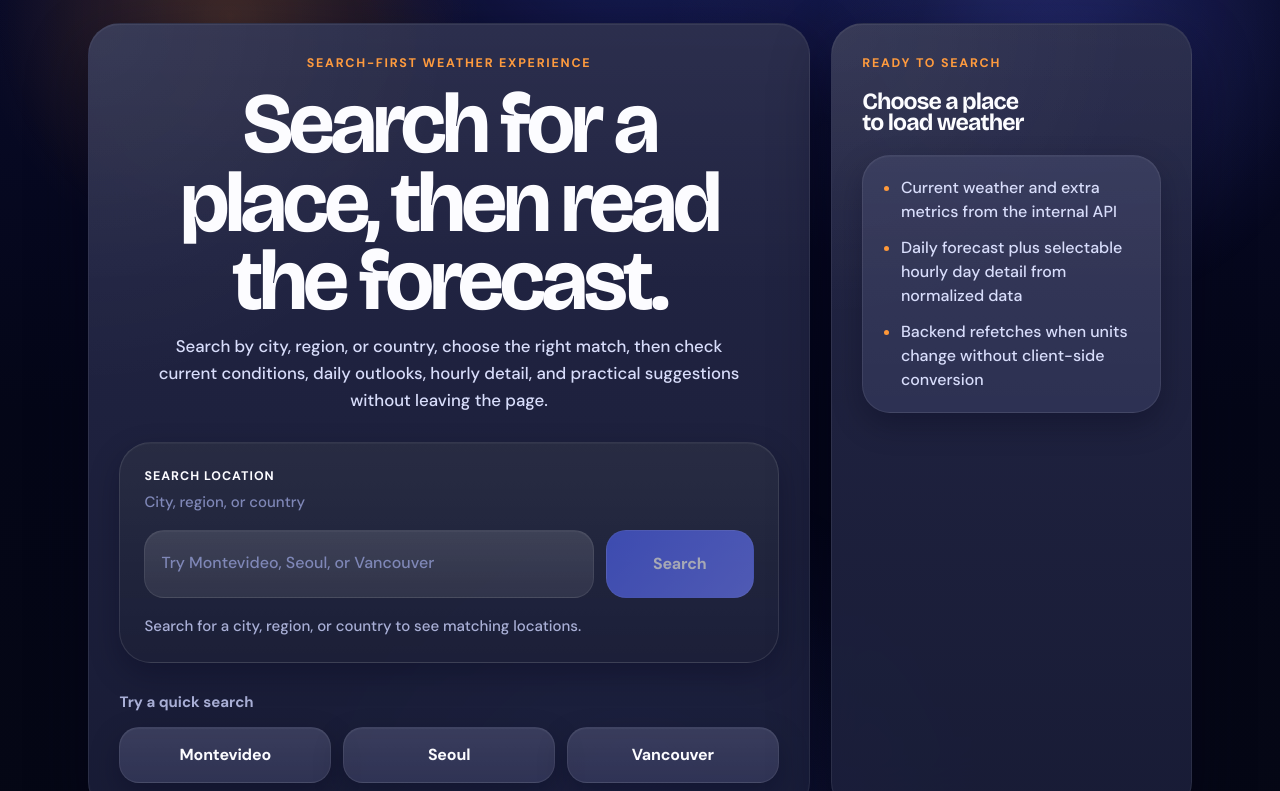
Test case: LocationSearchEmptyState › keeps recommendation rendering delegated to the normalized weather payload
Type "Montevideo" into the search field labelled "Search location".
click(369, 564); type("Montevideo")  # box [144,530,594,598]
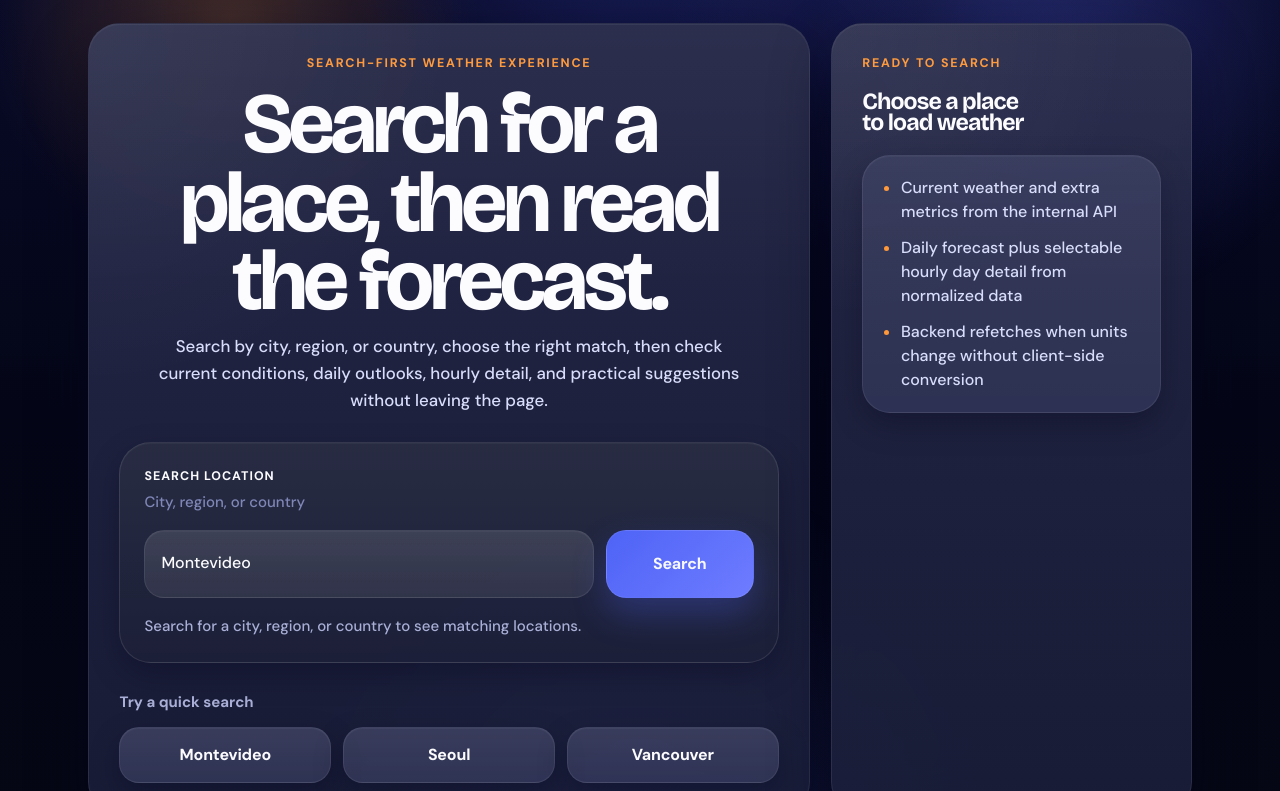
Submit the form labelled "Search location", box [119,442,779,663]
(page scrolled)
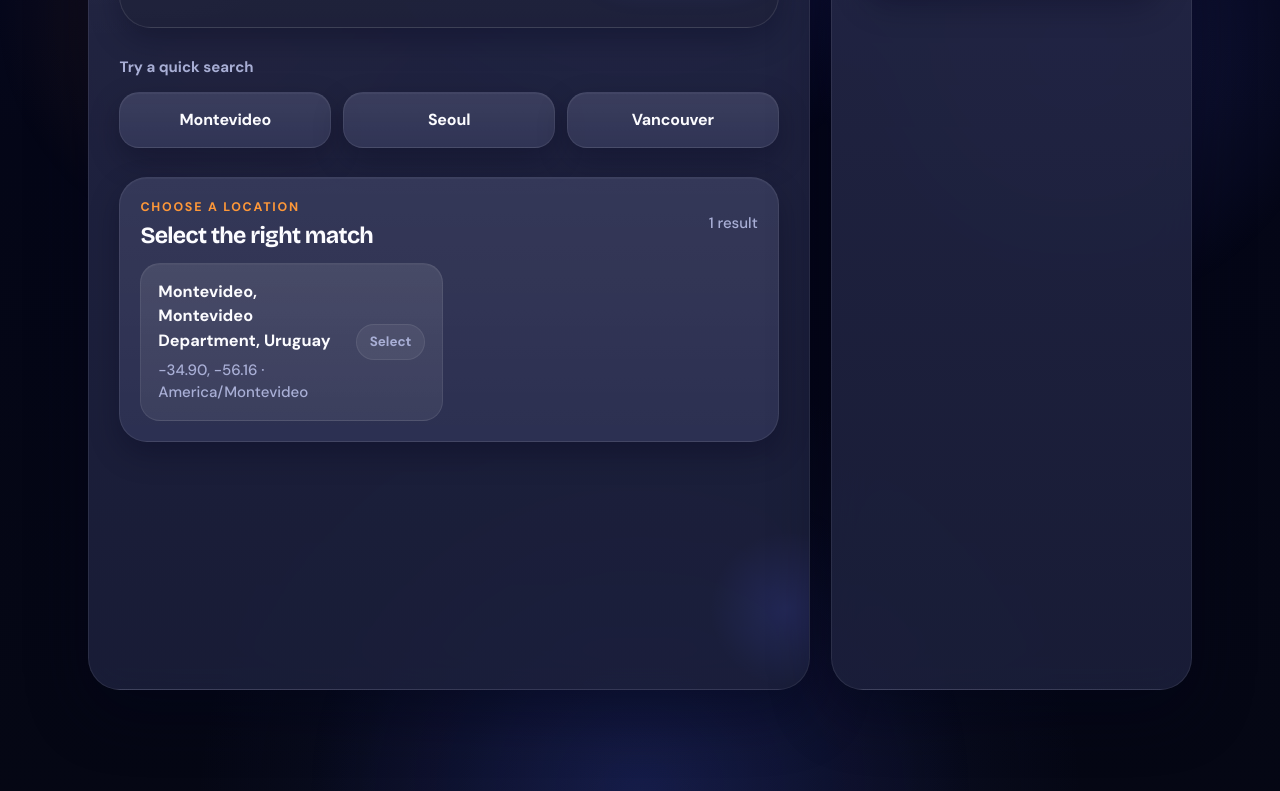
Click the button with aria-label "Select Montevideo, Montevideo Department, Uruguay".
click(292, 342)  # box [140,263,443,421]
(page scrolled)
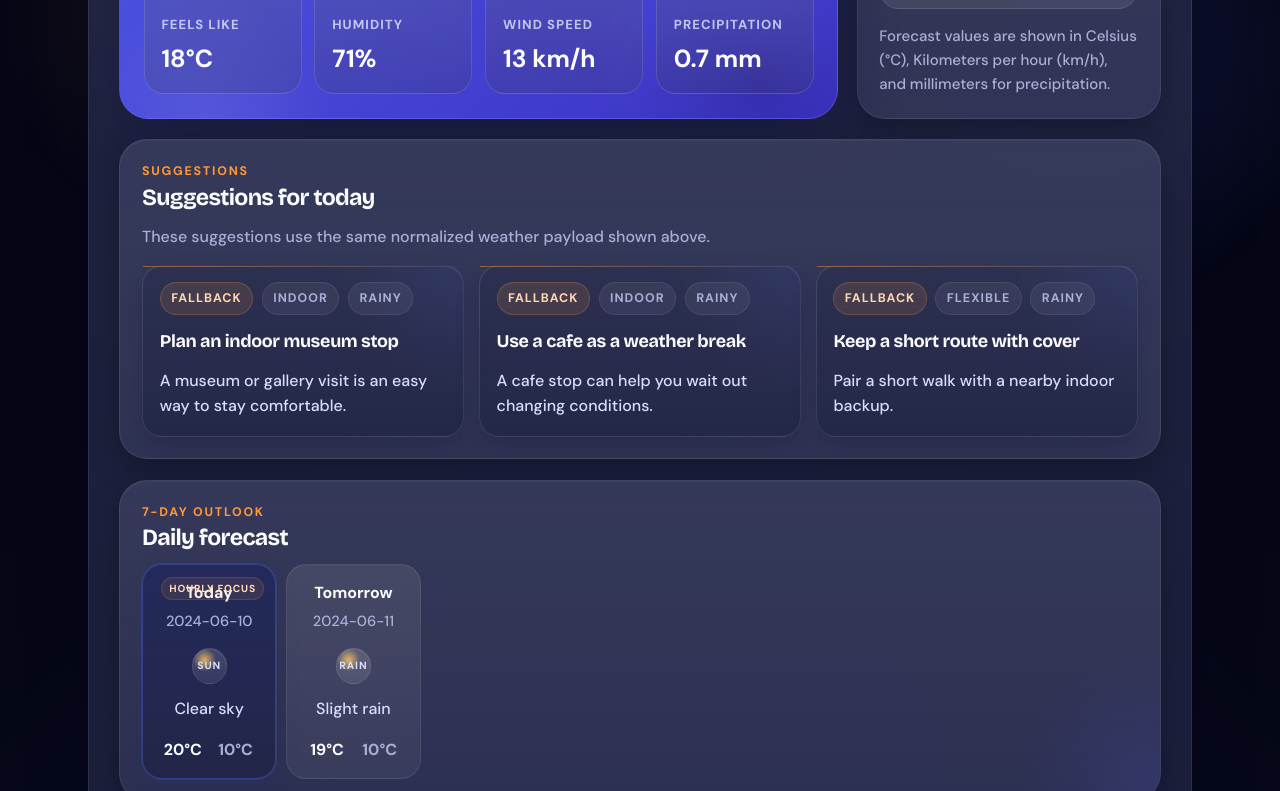
Check: the heading "Suggestions for today" is shown, box [142,183,375,211]
Check: the heading "Plan an indoor museum stop" is shown, box [160,330,399,352]
